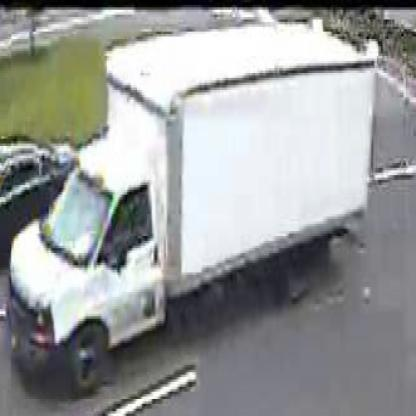truck: (11, 33, 379, 403)
